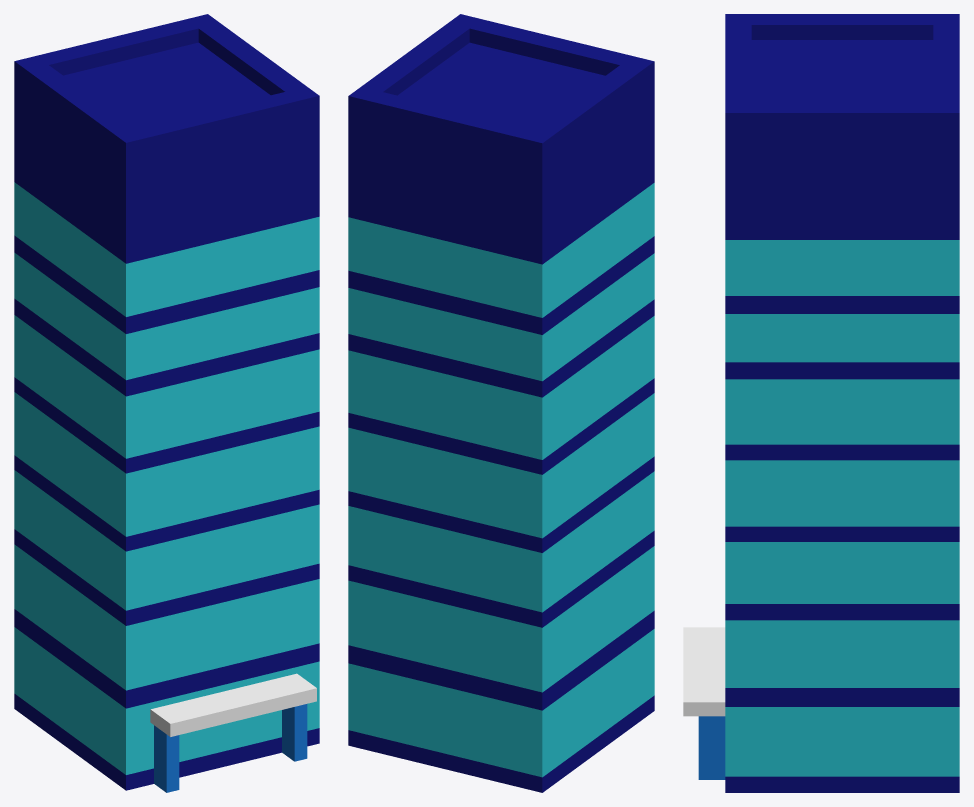
File: lowploybuilding2.FBX
3 renders of one model, left to right at view 1: azimuth 30°, elevation 25°; view 2: azimuth 150°, elevation 25°; view 3: azimuth 270°, elevation 25°, orthographic. The views are drawn at different scales.
Parts seen in each view (by area): view 1: Box001, Box002, Box003, Box004; view 2: Box001; view 3: Box001, Box002, Box004.
Boxes of the visible parts, x1=… form: Box001: x1=14, y1=14, x2=319, y2=790; Box002: x1=150, y1=673, x2=316, y2=736; Box003: x1=154, y1=725, x2=179, y2=792; Box004: x1=282, y1=704, x2=307, y2=761; Box001: x1=348, y1=14, x2=654, y2=792; Box001: x1=725, y1=14, x2=959, y2=792; Box002: x1=683, y1=627, x2=725, y2=716; Box004: x1=698, y1=716, x2=725, y2=779.
Bounding box in the file's own units: 98.43 × 315 × 116.
